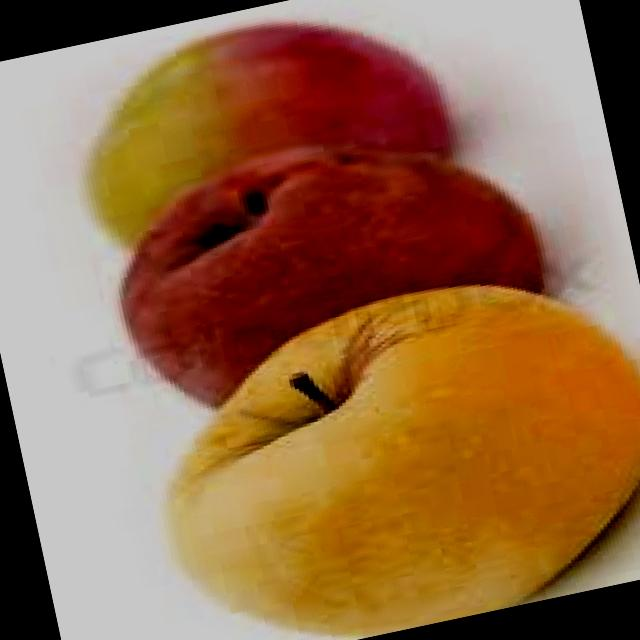Green Juicy Apple: (128, 251, 640, 640)
Red Apple: (64, 0, 475, 223)
Rotten Apple: (88, 109, 550, 401)
